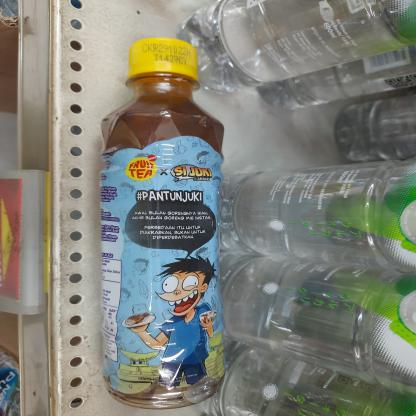bottle: (93, 35, 229, 412)
